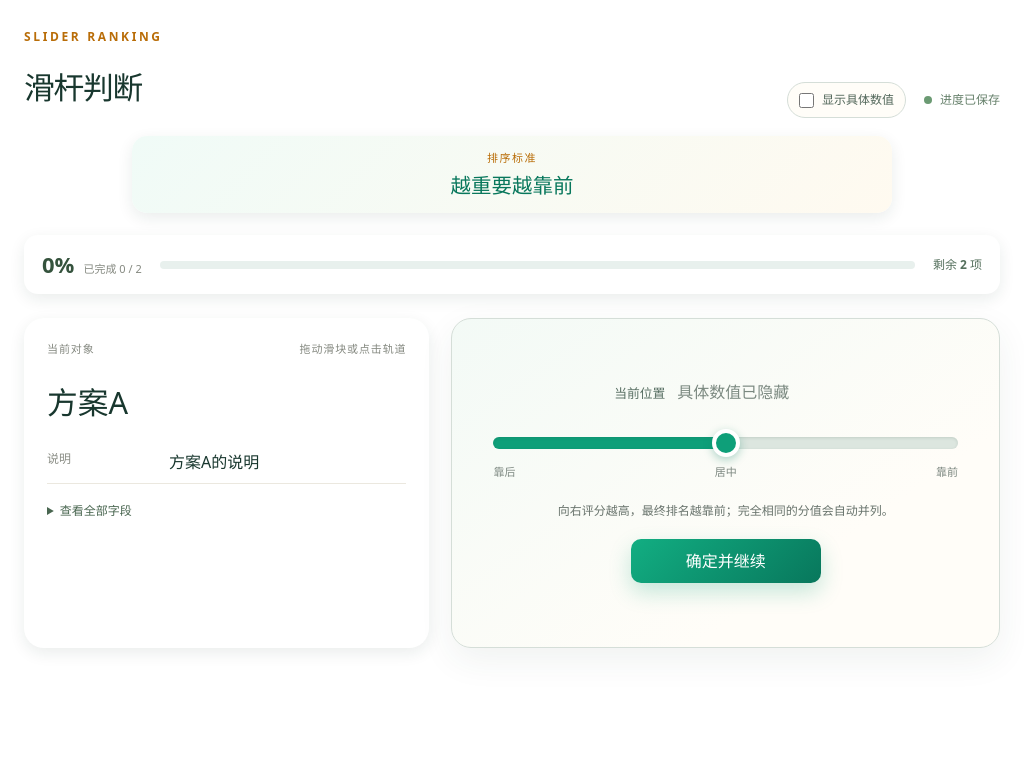
Test: SliderWorkspace › 将滑杆值限制到两位小数，确认后显示下一对象和已完成记录
Check: the heading "方案A" is shown, box [47,381,128,423]
Set the slider named "当前对象排序位置" to "87.456" at (894, 443), box [493,429,958,457]
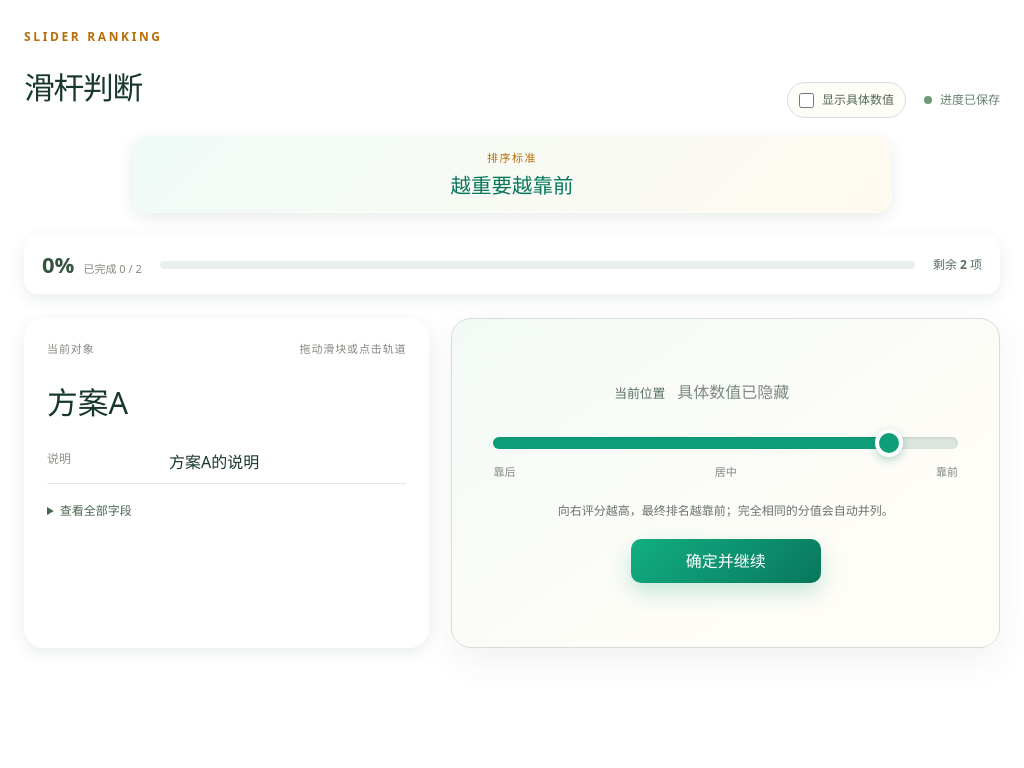
Check: the text "87.46" is not shown
Check: the text "具体数值已隐藏" is shown, box [677,381,789,403]
Click the checkbox labelled "显示具体数值".
click(806, 100)  # box [799,93,814,108]
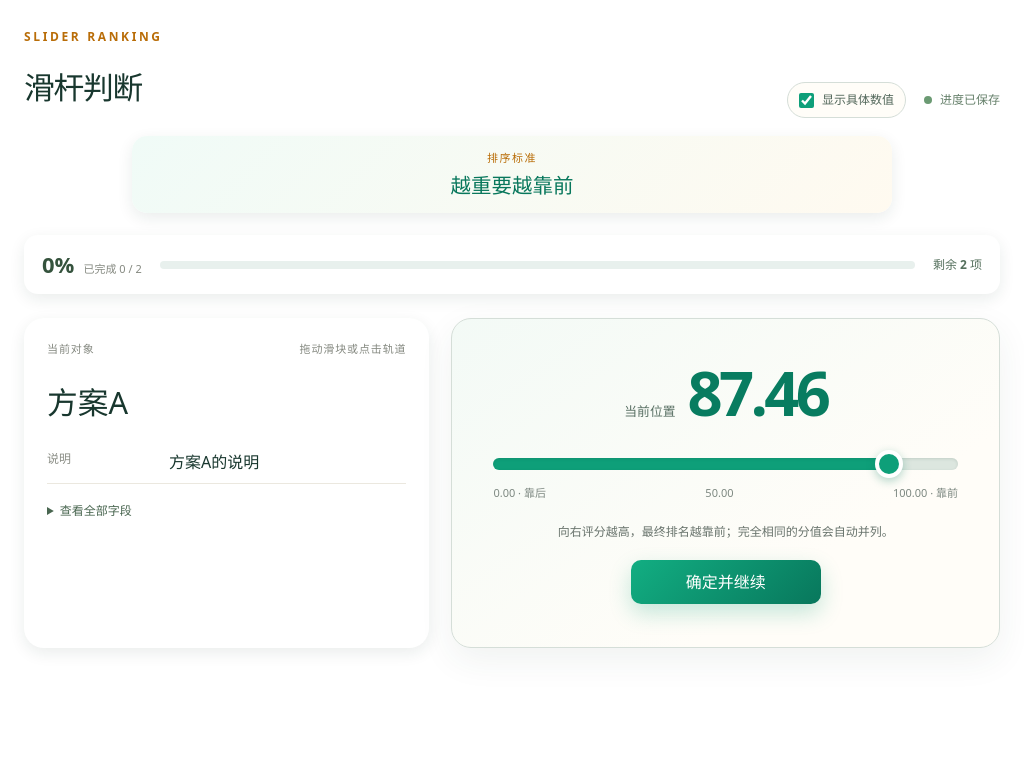
Check: the text "87.46" is shown, box [688,362,827,424]
Click the button "确定并继续".
click(726, 582)  # box [631,560,821,604]
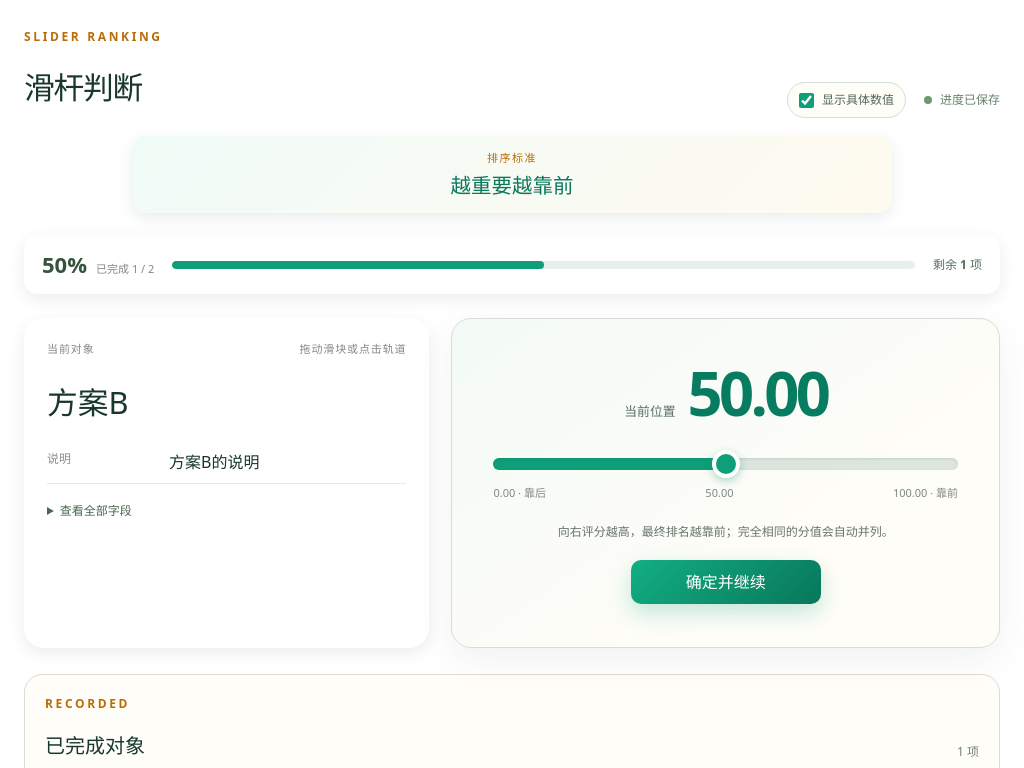
Check: the heading "方案B" is shown, box [47,381,128,423]
Check: the heading "已完成对象" is shown, box [45,731,145,761]
Check: the slider named "当前对象排序位置" holds "50", box [493,450,958,478]
